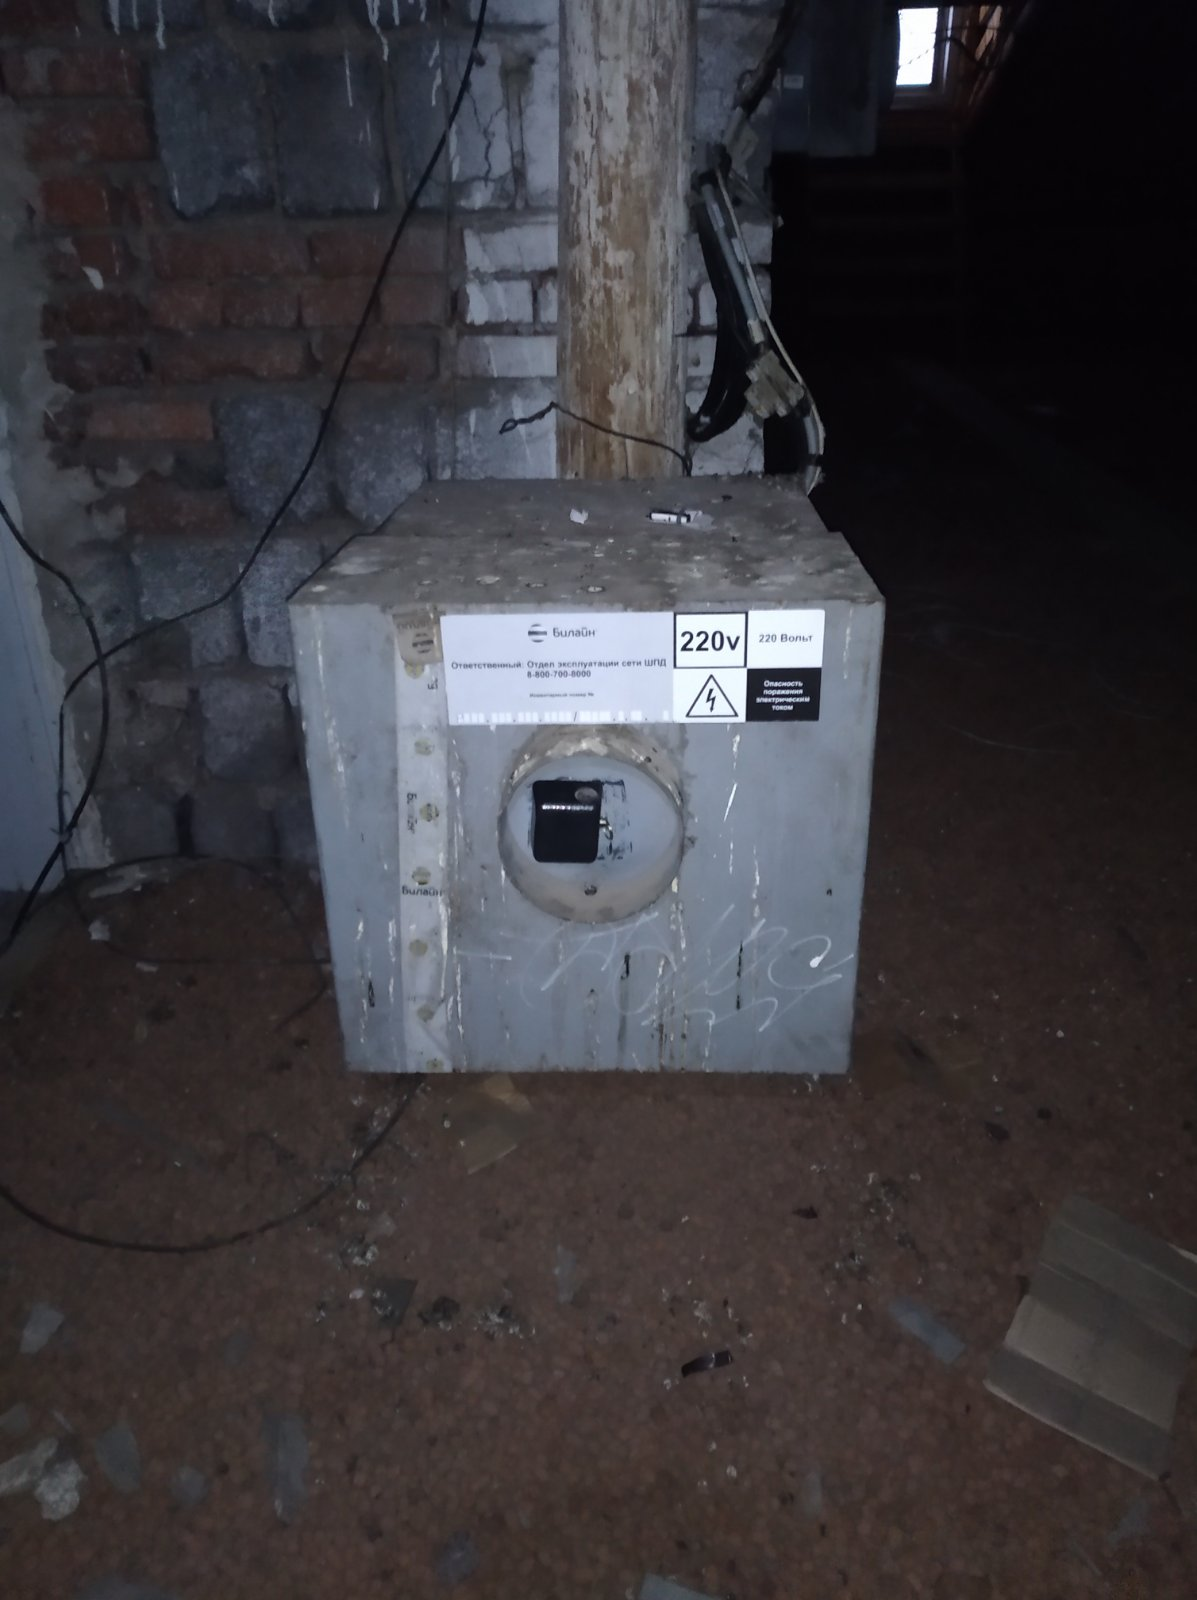shta-9: (283, 459, 896, 1096)
